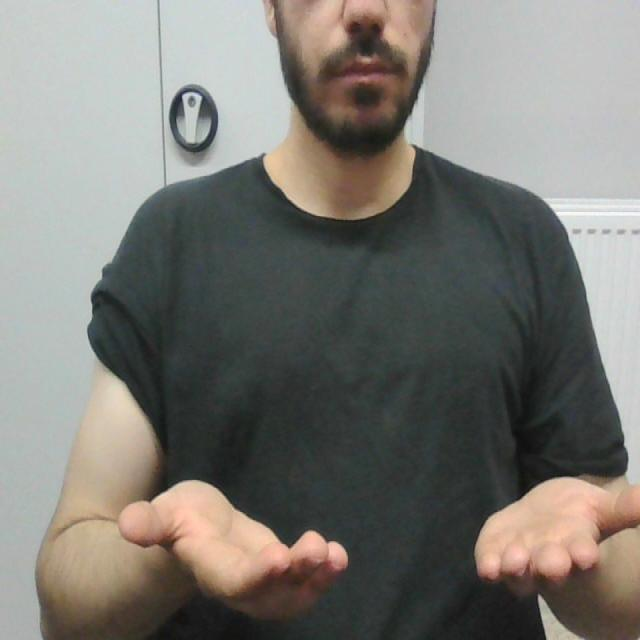Evet: (114, 472, 640, 625)
